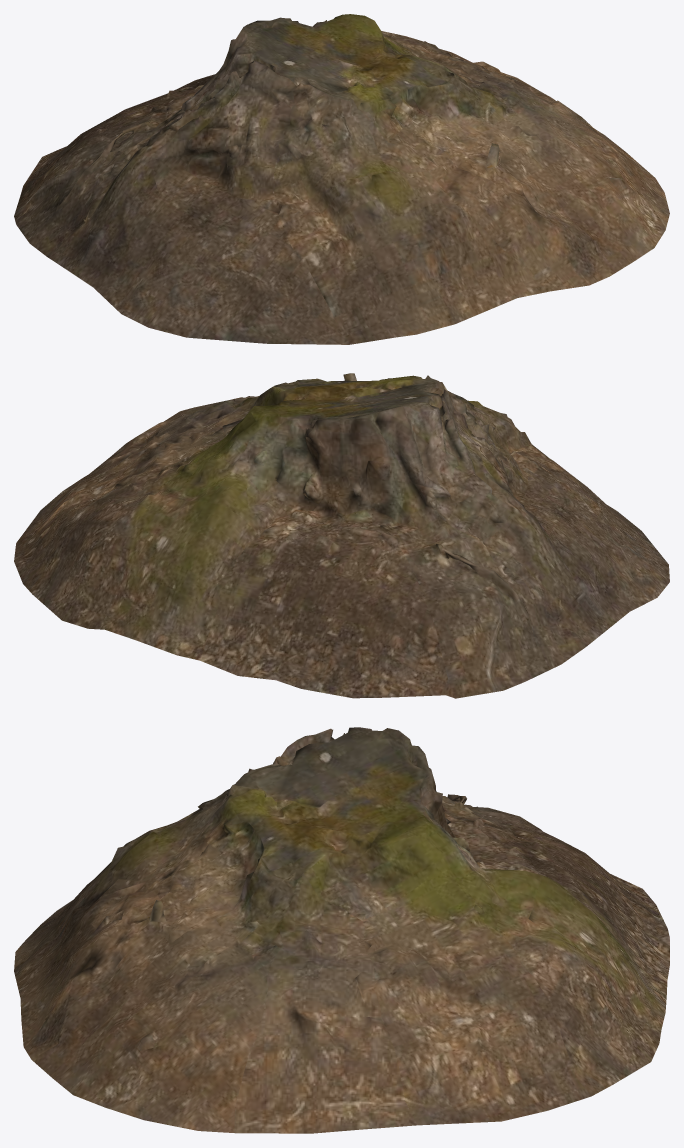
The model's file is tree_stump_02.glb.
3 views of the same model, one above another, from view 1: azimuth 30°, elevation 25°; view 2: azimuth 150°, elevation 25°; view 3: azimuth 270°, elevation 25° (orthographic). The views are drawn at different scales.
Visible parts, largest first — view 1: tree_stump_02; view 2: tree_stump_02; view 3: tree_stump_02.
Boxes of the visible parts, x1,y1,x2,y2 form: tree_stump_02: (14, 14, 669, 344); tree_stump_02: (14, 373, 669, 698); tree_stump_02: (14, 727, 669, 1133).
Size of the model in its own units: 1.52 by 0.5196 by 1.39.
1 material, 1 textured.
